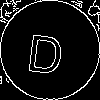D: (25, 25, 67, 75)
